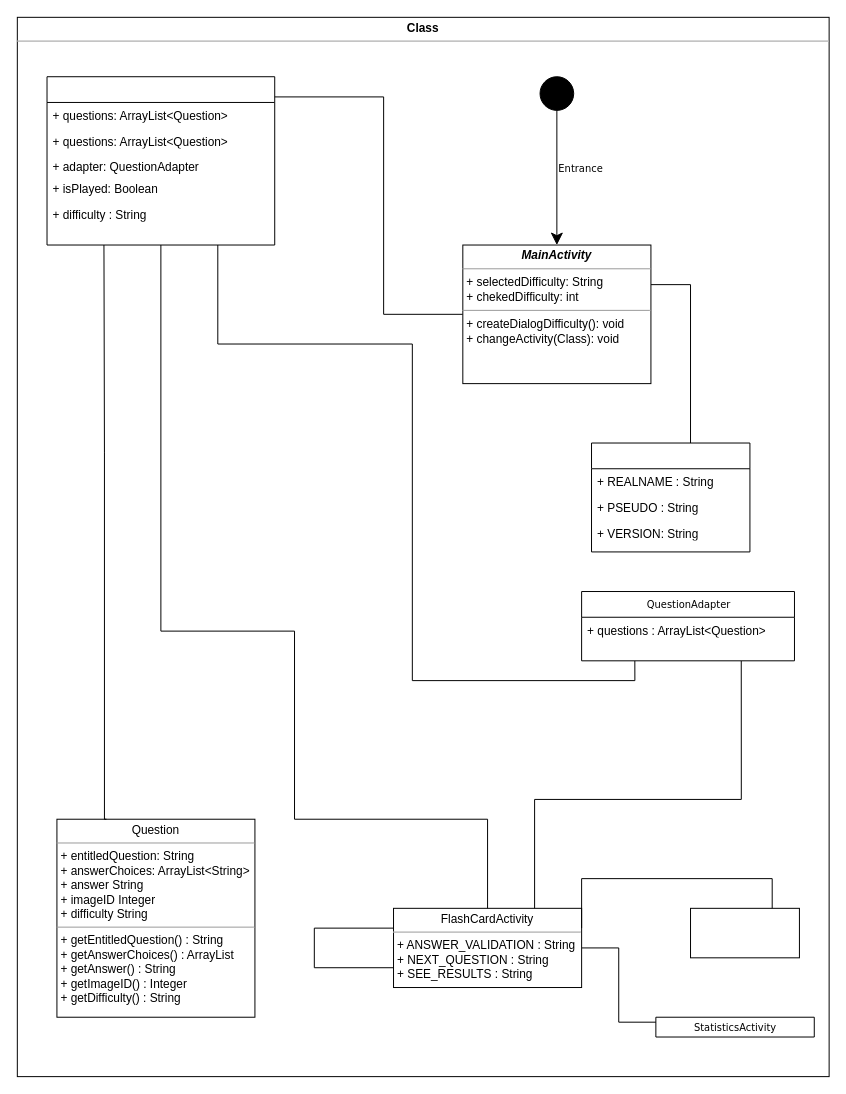
Image size: 846x1094. Some labels were removed from this diagram. Each missing label, with the box of its shape:
AboutActivity: (591, 442, 750, 552)
QuestionListActivity: (46, 76, 275, 245)
ZoomImageActivity: (690, 907, 799, 958)
